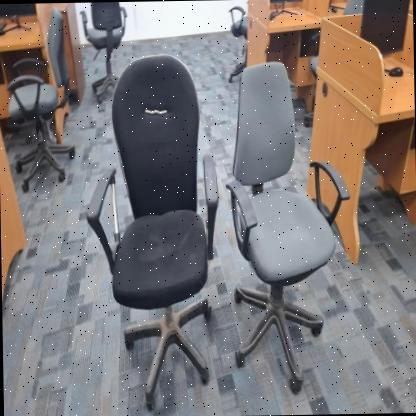chair: (78, 47, 228, 411), (221, 52, 355, 388)
